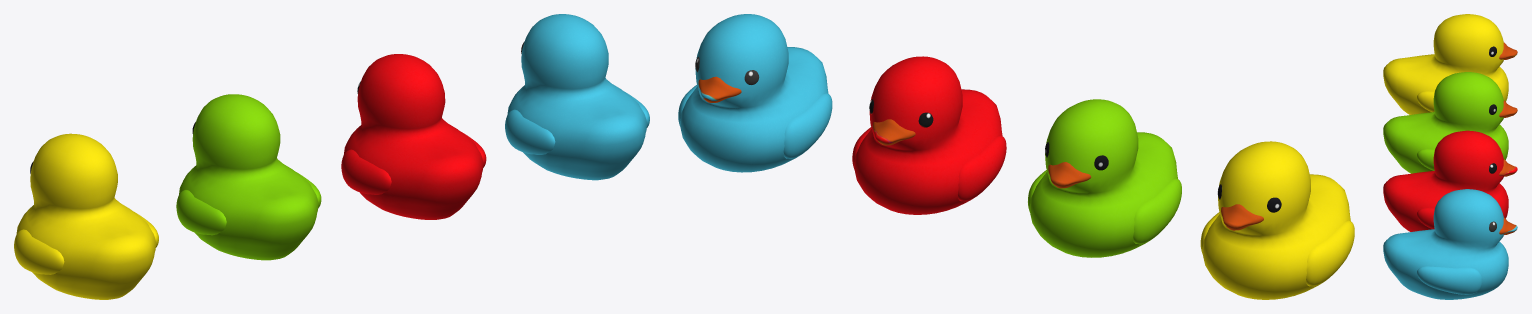
File: duck.fbx
3 renders of one model, left to right at view 1: azimuth 30°, elevation 25°; view 2: azimuth 150°, elevation 25°; view 3: azimuth 270°, elevation 25°, orthographic. The views are drawn at different scales.
Visible parts, largest first — view 1: duck2, duck, duck3, duck4; view 2: duck3, duck, duck4, duck2; view 3: duck3, duck2, duck4, duck.
Boxes of the visible parts, bbox=[...] form: duck2: bbox=[176, 94, 321, 260]; duck: bbox=[14, 133, 158, 299]; duck3: bbox=[505, 14, 649, 180]; duck4: bbox=[341, 54, 486, 219]; duck3: bbox=[678, 14, 832, 172]; duck: bbox=[1200, 141, 1354, 299]; duck4: bbox=[852, 56, 1006, 214]; duck2: bbox=[1028, 99, 1181, 257]; duck3: bbox=[1383, 189, 1517, 299]; duck2: bbox=[1383, 72, 1517, 173]; duck4: bbox=[1383, 130, 1517, 231]; duck: bbox=[1383, 14, 1517, 114].
Size of the model in its own units: 40.13 by 8.74 by 10.41.
